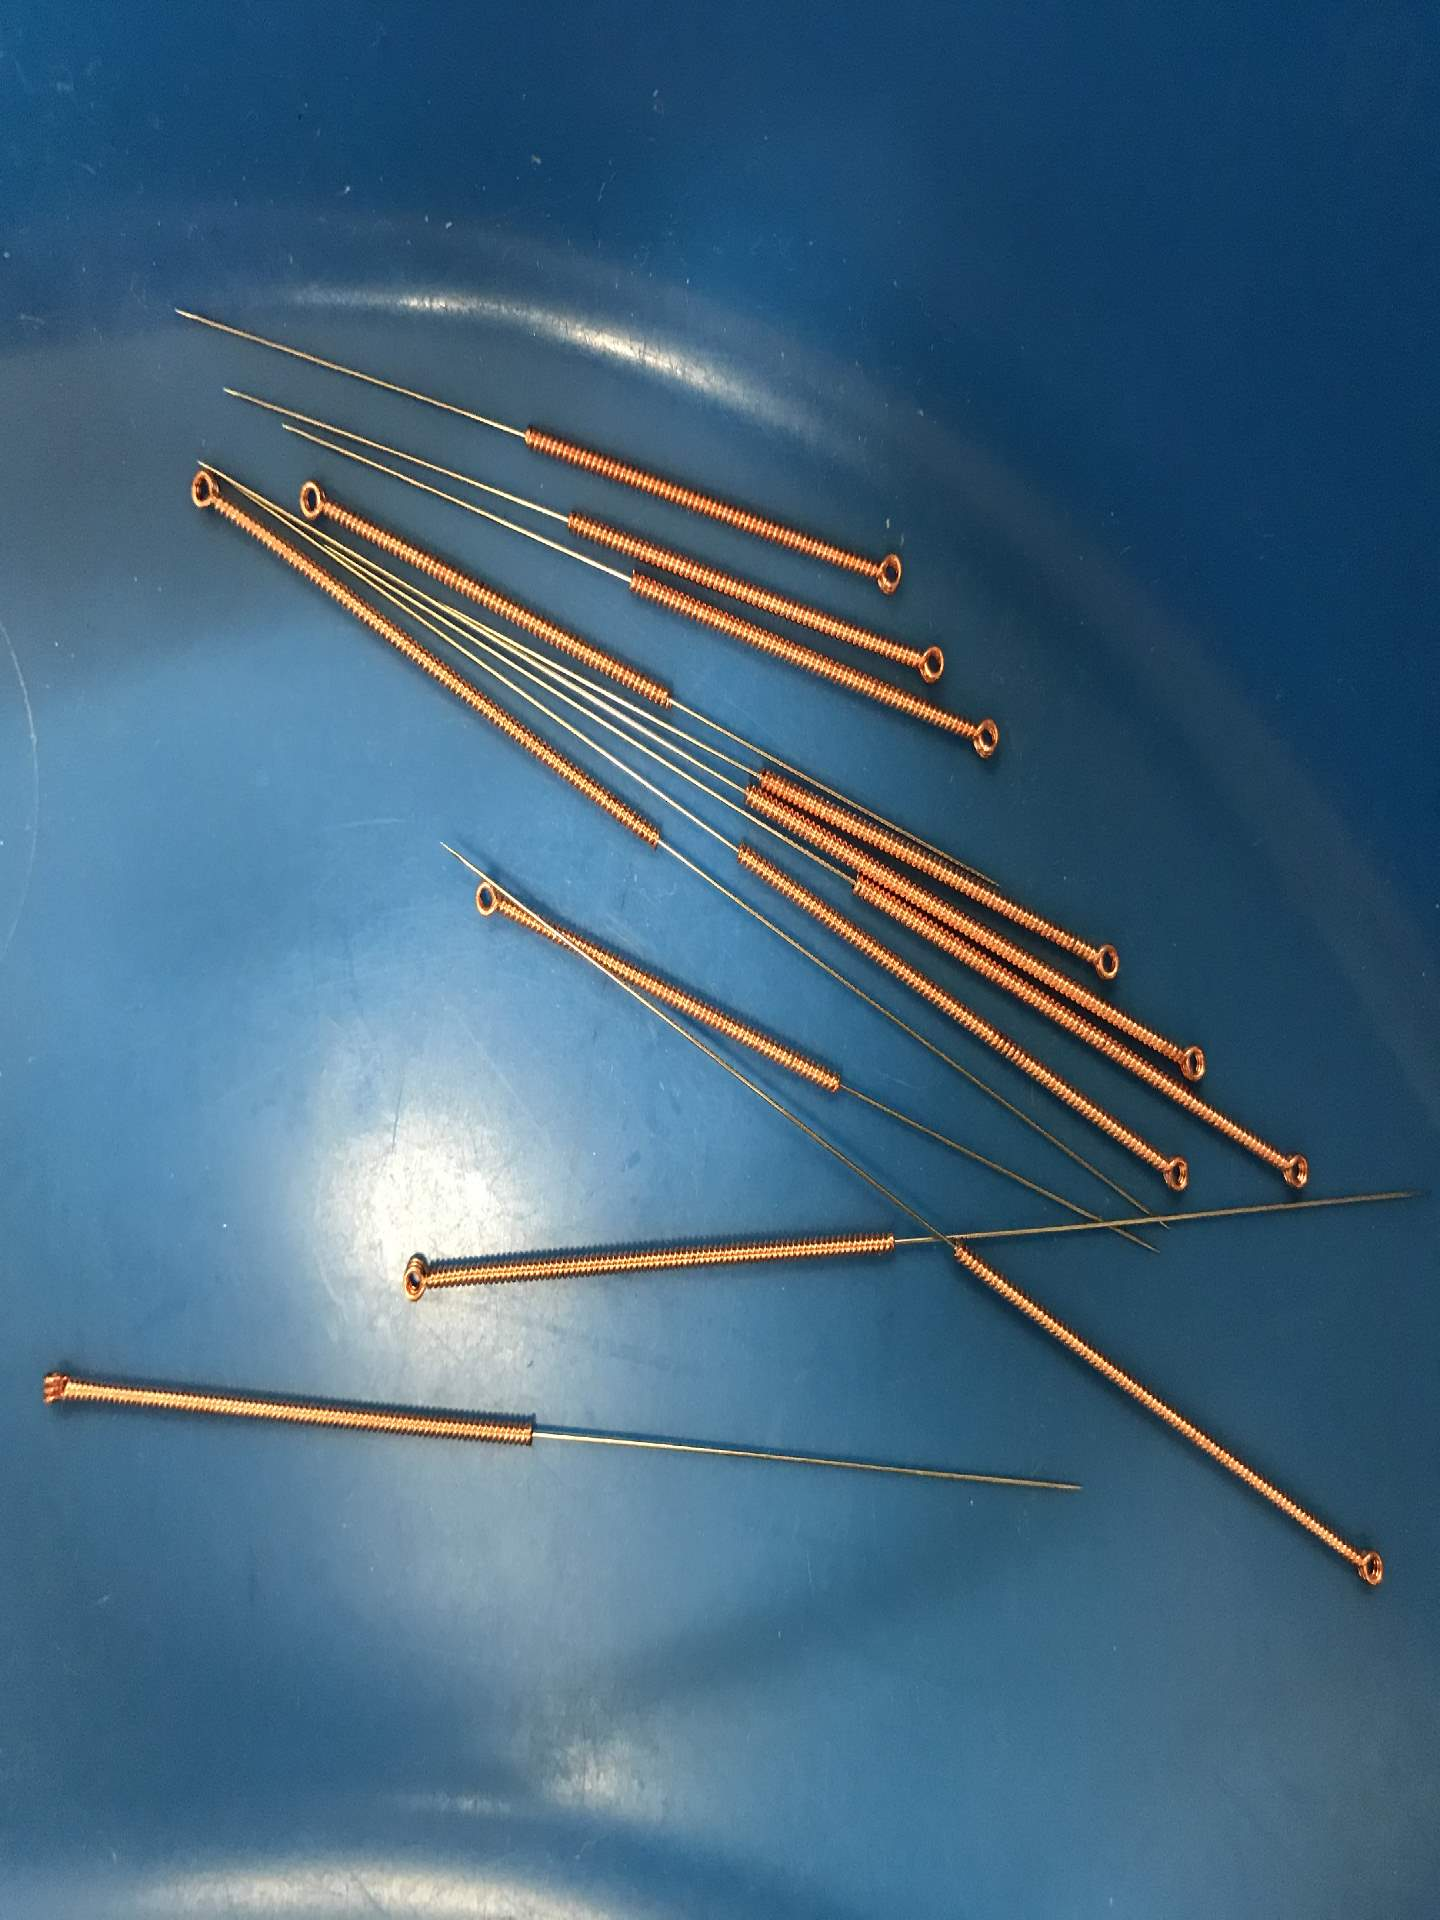needle: (24, 1353, 86, 1423), (458, 868, 520, 936), (855, 541, 917, 608), (953, 708, 1016, 771), (175, 463, 241, 525), (1339, 1531, 1398, 1599), (386, 1249, 448, 1312), (1258, 1140, 1324, 1200), (902, 629, 957, 691), (289, 472, 345, 532), (1141, 1141, 1198, 1199), (1082, 928, 1133, 992), (1171, 1033, 1216, 1092)
